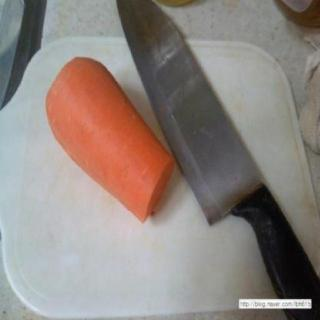carrot: (45, 50, 177, 226)
